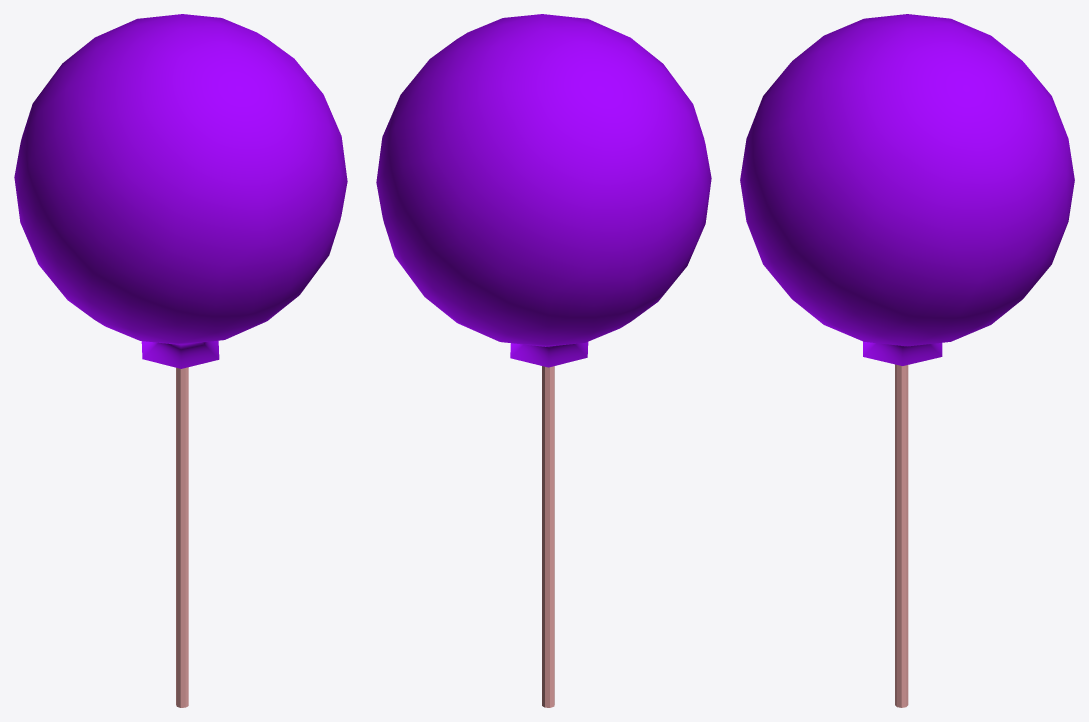
File: sharik_purple 1.fbx
The picture shows the model from 3 angles, left to right: view 1: azimuth 30°, elevation 25°; view 2: azimuth 150°, elevation 25°; view 3: azimuth 270°, elevation 25°; orthographic projection.
Visible parts, largest first — view 1: sharik_purple, Cylinder, Cone; view 2: sharik_purple, Cylinder, Cone; view 3: sharik_purple, Cylinder, Cone.
Part boxes in pixels (<box>): sharik_purple: <box>14,14,347,344</box>; Cylinder: <box>176,367,188,707</box>; Cone: <box>141,340,219,368</box>; sharik_purple: <box>376,14,711,346</box>; Cylinder: <box>542,366,554,707</box>; Cone: <box>510,342,588,367</box>; sharik_purple: <box>740,14,1074,346</box>; Cylinder: <box>895,364,908,707</box>; Cone: <box>863,341,942,365</box>.
Size of the model in its own units: 100 by 223 by 100.
